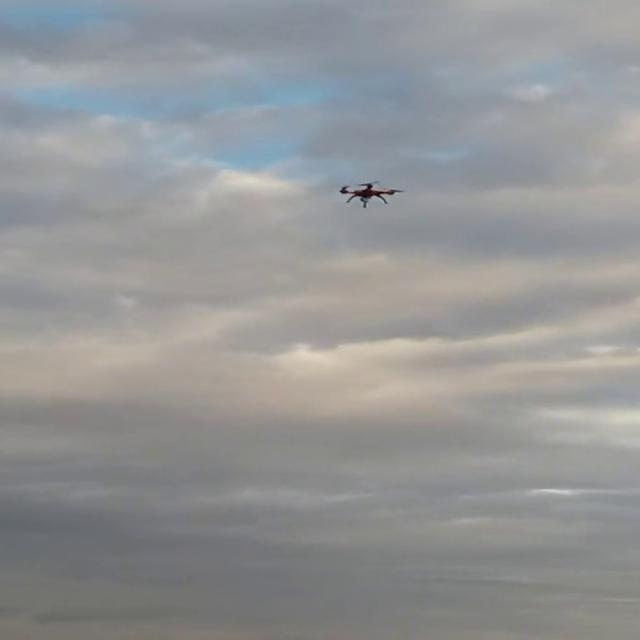drone: (336, 179, 407, 208)
